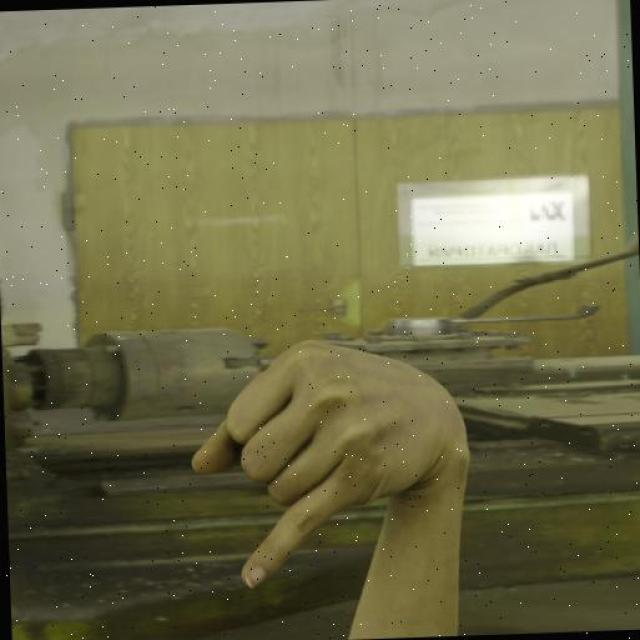J: (185, 331, 475, 593)
